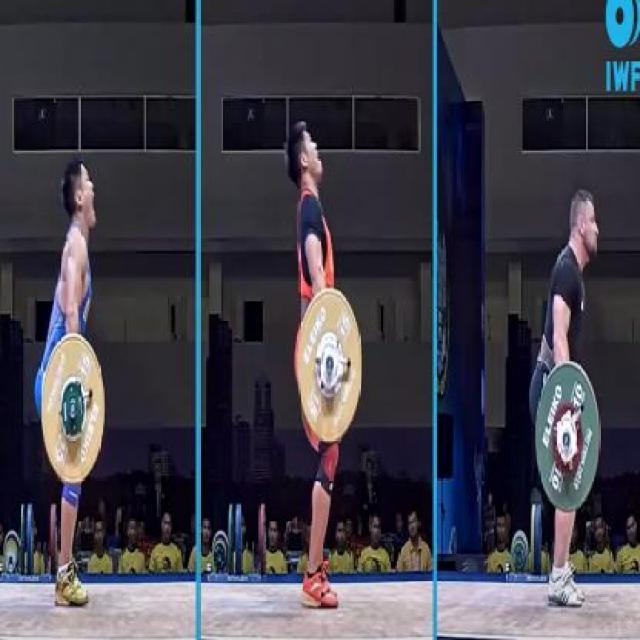barbell: (288, 281, 379, 450), (34, 324, 114, 495), (536, 358, 607, 524)
